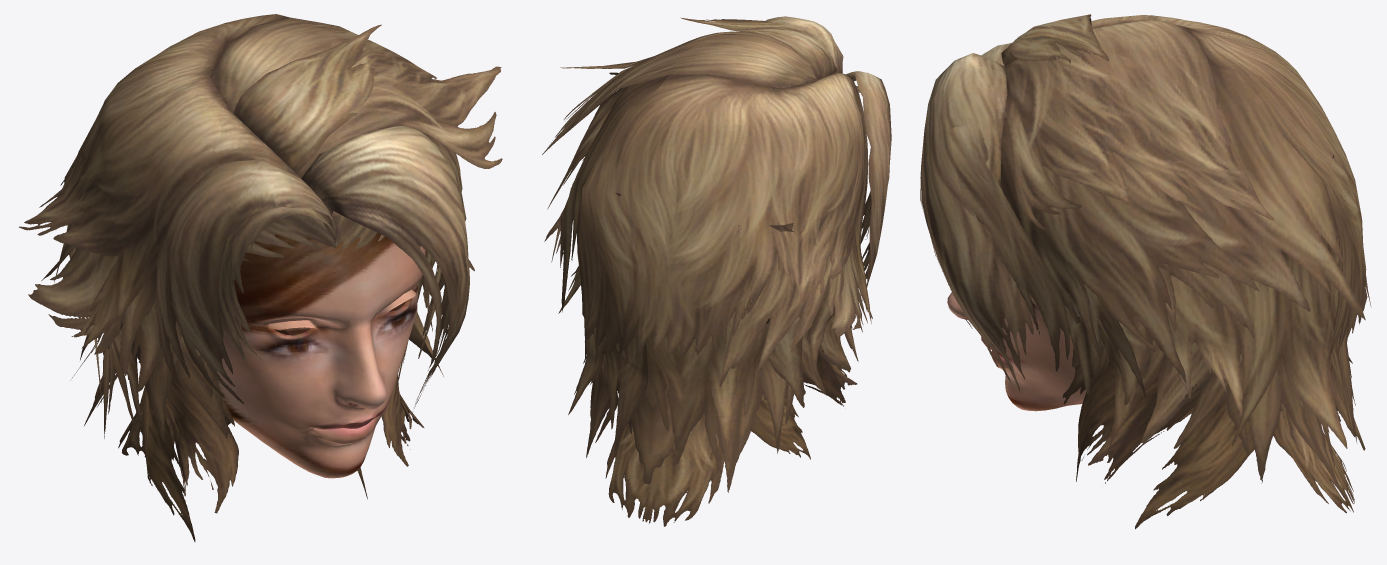
The model's file is head_m_1.fbx.
3 views of the same model, side by side, from view 1: azimuth 30°, elevation 25°; view 2: azimuth 150°, elevation 25°; view 3: azimuth 270°, elevation 25° (orthographic). The views are drawn at different scales.
Visible parts, largest first — view 1: polySurface2, polySurface1; view 2: polySurface2; view 3: polySurface2, polySurface1.
Part boxes in pixels (left/top/right/bottom): polySurface2: left=19, top=14, right=502, bottom=541; polySurface1: left=217, top=233, right=425, bottom=478; polySurface2: left=542, top=16, right=891, bottom=526; polySurface2: left=920, top=14, right=1371, bottom=529; polySurface1: left=947, top=292, right=1086, bottom=411.
Size of the model in its own units: 23.84 by 28.33 by 23.35.
2 materials, 2 textured.
